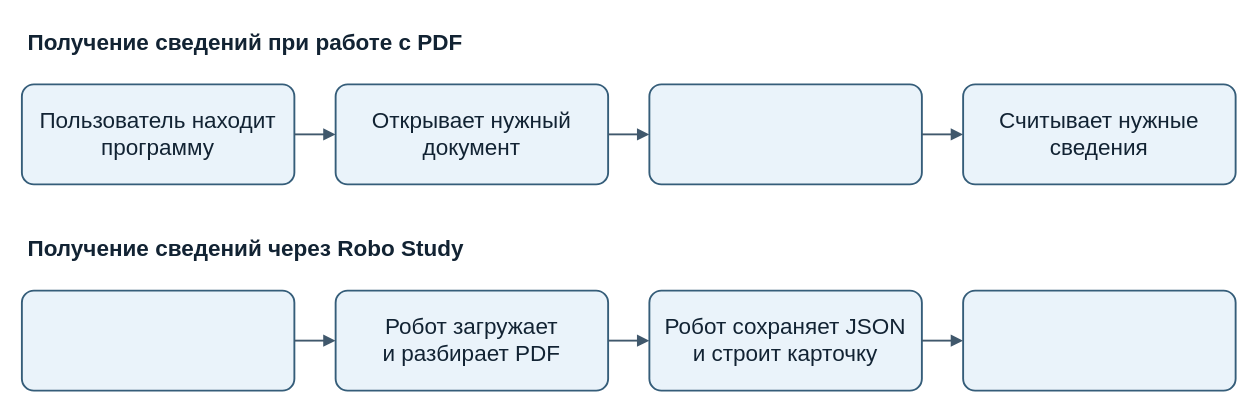
Image size: 1259x413. Some labels were removed from this diagram. Here are the shapes that lost their labels. From the top down, the box of each, then its label:
(648, 83, 922, 185): Находит раздел или таблицу
(20, 289, 295, 391): Пользователь выбирает программу
(962, 289, 1236, 391): Пользователь открывает карточку или PDF
